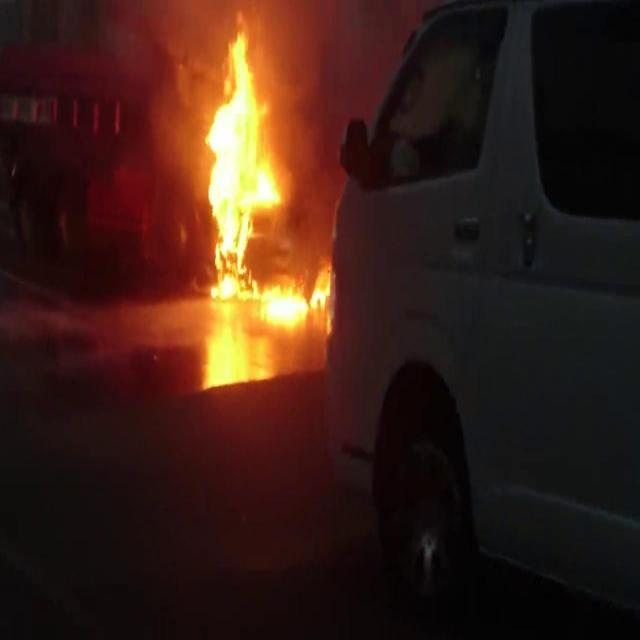fire: (199, 15, 336, 352)
